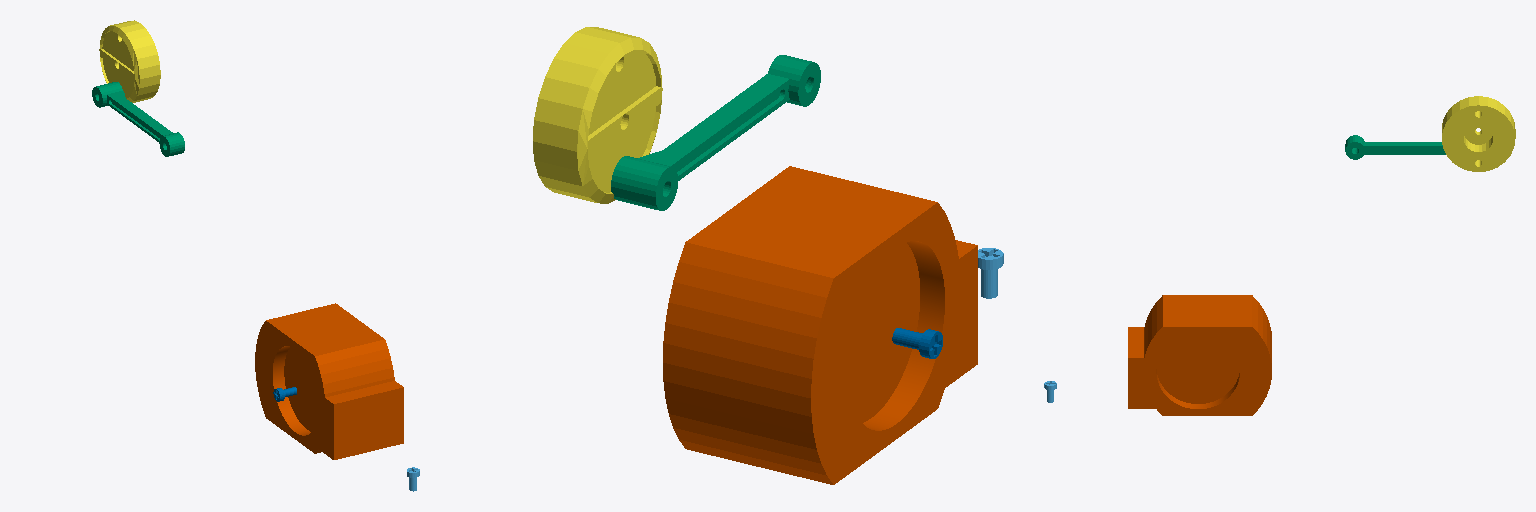
URDF robot description (owi535):
<?xml version="1.0" ?>
<robot name="owi535">
   <link name="World"/>
   <link name="Model">
      <visual>
         <origin rpy="0.0 -0.0 0.0" xyz="0.0 0.0 0.0"/>
         <geometry>
            <mesh filename="package://owi_35/urdf/Untitled-mesh.0.obj"/>
         </geometry>
      </visual>
      <collision>
         <origin rpy="0.0 -0.0 0.0" xyz="0.0 0.0 0.0"/>
         <geometry>
            <mesh filename="package://owi_35/urdf/Untitled-mesh.0.obj"/>
         </geometry>
      </collision>
      
      <inertial>
            <mass value="0.1" />
            <origin xyz="0 0 0" rpy="0 0 0" />
             <inertia ixx="1" ixy="0" ixz="0" iyy="1" iyz="0" izz="1" />
      </inertial>
   </link>
   <link name="Elbow">
      <visual>
         <origin rpy="-3.97231980642232e-09 -0.0 0.0" xyz="46.62923049926758 -157.33990478515625 23.237260818481445"/>
         <geometry>
            <mesh filename="package://owi_35/urdf/Untitled_004-mesh.0.obj"/>
         </geometry>
      </visual>
      <collision>
         <origin rpy="-3.97231980642232e-09 -0.0 0.0" xyz="46.62923049926758 -157.33990478515625 23.237260818481445"/>
         <geometry>
            <mesh filename="package://owi_35/urdf/Untitled_004-mesh.0.obj"/>
         </geometry>
      </collision>
      
      <inertial>
            <mass value="0.1" />
            <origin xyz="0 0 0" rpy="0 0 0" />
            <inertia ixx="1" ixy="0" ixz="0" iyy="1" iyz="0" izz="1" />
      </inertial>
   </link>
   <link name="Wrist">
      <visual>
         <origin rpy="4.371139894487894e-08 -0.0 0.0" xyz="45.20729064941406 -156.94960021972656 136.8153076171875"/>
         <geometry>
            <mesh filename="package://owi_35/urdf/Untitled_012-mesh.0.obj"/>
         </geometry>
      </visual>
      <collision>
         <origin rpy="4.371139894487894e-08 -0.0 0.0" xyz="45.20729064941406 -156.94960021972656 136.8153076171875"/>
         <geometry>
            <mesh filename="package://owi_35/urdf/Untitled_012-mesh.0.obj"/>
         </geometry>
      </collision>

      <inertial>
            <mass value="0.1" />
            <origin xyz="0 0 0" rpy="0 0 0" />
            <inertia ixx="1" ixy="0" ixz="0" iyy="1" iyz="0" izz="1" />
      </inertial>
   </link>
   <link name="Base">
      <visual>
         <origin rpy="1.1128840071705781e-08 -0.0 0.0" xyz="45.207271575927734 -67.66277313232422 22.967529296875"/>
         <geometry>
            <mesh filename="package://owi_35/urdf/Untitled_058-mesh.0.obj"/>
         </geometry>
      </visual>
      <collision>
         <origin rpy="1.1128840071705781e-08 -0.0 0.0" xyz="45.207271575927734 -67.66277313232422 22.967529296875"/>
         <geometry>
            <mesh filename="package://owi_35/urdf/Untitled_058-mesh.0.obj"/>
         </geometry>
      </collision>
      <inertial>
            <mass value="0.1" />
            <origin xyz="0 0 0" rpy="0 0 0" />
            <inertia ixx="1" ixy="0" ixz="0" iyy="1" iyz="0" izz="1" />
      </inertial>
   </link>
   <link name="Rotation">
      <visual>
         <origin rpy="1.112884007170578e-08 -1.2086680101219856e-07 -3.1868600558481205e-07" xyz="45.94236755371094 -66.8334732055664 25.347610473632812"/>
         <geometry>
            <mesh filename="package://owi_35/urdf/Untitled_064-mesh.0.obj"/>
         </geometry>
      </visual>
      <collision>
         <origin rpy="1.112884007170578e-08 -1.2086680101219856e-07 -3.1868600558481205e-07" xyz="45.94236755371094 -66.8334732055664 25.347610473632812"/>
         <geometry>
            <mesh filename="package://owi_35/urdf/Untitled_064-mesh.0.obj"/>
         </geometry>
      </collision>
      <inertial>
            <mass value="0.1" />
            <origin xyz="0 0 0" rpy="0 0 0" />
            <inertia ixx="1" ixy="0" ixz="0" iyy="1" iyz="0" izz="1" />
      </inertial>
   </link>
   <joint name="World_Model" type="fixed">
      <parent link="World"/>
      <child link="Model"/>
      <origin rpy="1.5707963705062988 -0.0 0.0" xyz="0.0 0.0 10.0"/>
   </joint>
   <joint name="Model_Rotation" type="fixed">
      <parent link="Model"/>
      <child link="Rotation"/>
      <origin rpy="0.0 -0.0 0.0" xyz="-45.9423713684082 66.8334732055664 -25.347610473632812"/>
      <!-- <axis xyz="0 1 0"/>
      <limit effort="30" velocity="1.0" lower="-2.268928" upper="2.268928"/> -->
   </joint>
   <joint name="Rotation_Base" type="fixed">
      <parent link="Rotation"/>
      <child link="Base"/>
      <origin rpy="5.5644200358528906e-09 -6.043340050609917e-08 -1.5934300279241008e-07" xyz="0.7350807189941406 0.8293303847312927 2.3800790309906006"/>
      <!-- <axis xyz="1 0 0"/>
      <limit effort="30" velocity="1.0" lower="-1.570796" upper="1.047198"/> -->
   </joint>
   <joint name="Base_Elbow" type="fixed">
      <parent link="Base"/>
      <child link="Elbow"/>
      <origin rpy="5.5644200358528906e-09 -0.0 0.0" xyz="-1.42194402217865 89.6771011352539 -0.2697296142578125"/>
      <!-- <axis xyz="1 0 0"/>
      <limit effort="30" velocity="1.0" lower="-1.047198" upper="1.570796"/> -->
   </joint>
   <joint name="Elbow_Wrist" type="fixed">
      <parent link="Elbow"/>
      <child link="Wrist"/>
      <origin rpy="-3.97231980642232e-09 -0.0 0.0" xyz="1.4219470024108887 -0.3902587890625 -113.5781021118164"/>
     <!--  <axis xyz="1 0 0"/>
      <limit effort="30" velocity="1.0" lower="-0.785398" upper="0.785398"/> -->
   </joint>
   <!-- <transmission name="tran1">
      <type>transmission_interface/SimpleTransmission</type>
      <joint name="Model_Rotation">
   <hardwareInterface>hardware_interface/EffortJointInterface</hardwareInterface>
      </joint>
      <actuator name="motor1">
   <hardwareInterface>hardware_interface/EffortJointInterface</hardwareInterface>
   <mechanicalReduction>1</mechanicalReduction>
      </actuator>
    </transmission>

    <transmission name="tran2">
      <type>transmission_interface/SimpleTransmission</type>
      <joint name="Rotation_Base">
   <hardwareInterface>hardware_interface/EffortJointInterface</hardwareInterface>
      </joint>
      <actuator name="motor2">
   <hardwareInterface>hardware_interface/EffortJointInterface</hardwareInterface>
   <mechanicalReduction>1</mechanicalReduction>
      </actuator>
    </transmission>

    <transmission name="tran3">
      <type>transmission_interface/SimpleTransmission</type>
      <joint name="Base_Elbow">
   <hardwareInterface>hardware_interface/EffortJointInterface</hardwareInterface>
      </joint>
      <actuator name="motor3">
   <hardwareInterface>hardware_interface/EffortJointInterface</hardwareInterface>
   <mechanicalReduction>1</mechanicalReduction>
      </actuator>
    </transmission>

    <transmission name="tran4">
      <type>transmission_interface/SimpleTransmission</type>
      <joint name="Elbow_Wrist">
   <hardwareInterface>hardware_interface/EffortJointInterface</hardwareInterface>
      </joint>
      <actuator name="motor4">
   <hardwareInterface>hardware_interface/EffortJointInterface</hardwareInterface>
   <mechanicalReduction>1</mechanicalReduction>
      </actuator>
    </transmission> -->
<!--     <gazebo>
<plugin filename="libgazebo_ros_control.so" name="gazebo_ros_control">
<robotNamespace>/owi535</robotNamespace>
<robotSimType>gazebo_ros_control/DefaultRobotHWSim</robotSimType>
<legacyModeNS>true</legacyModeNS>
</plugin>
</gazebo> -->
</robot>

--- What the picture shows (computed from the rendered views, not written in the file) ---
3 views of the same robot in one strip: view 1: azimuth 30°, elevation 25°; view 2: azimuth 150°, elevation 25°; view 3: azimuth 270°, elevation 25° (orthographic).
Robot: owi535 — 6 links, 5 joints (5 fixed); root link World; default pose: every joint at zero.
Links seen in each view (by area): view 1: Rotation, Wrist, Elbow; view 2: Rotation, Wrist, Elbow, Base, Model; view 3: Rotation, Wrist, Elbow.
Boxes of the visible links, x1,y1,x2,y2 form: Rotation: (255,303,403,459); Wrist: (99,20,160,102); Elbow: (92,82,184,156); Rotation: (663,166,977,484); Wrist: (533,27,662,203); Elbow: (611,55,820,210); Base: (892,328,942,358); Model: (978,248,1003,298); Rotation: (1128,295,1271,415); Wrist: (1442,96,1515,171); Elbow: (1345,135,1445,159).
Bounding box of the posed robot: 49.21 × 191 × 125 m (x, y, z).
5 mesh visuals loaded from 5 distinct referenced files (5 OBJ).
